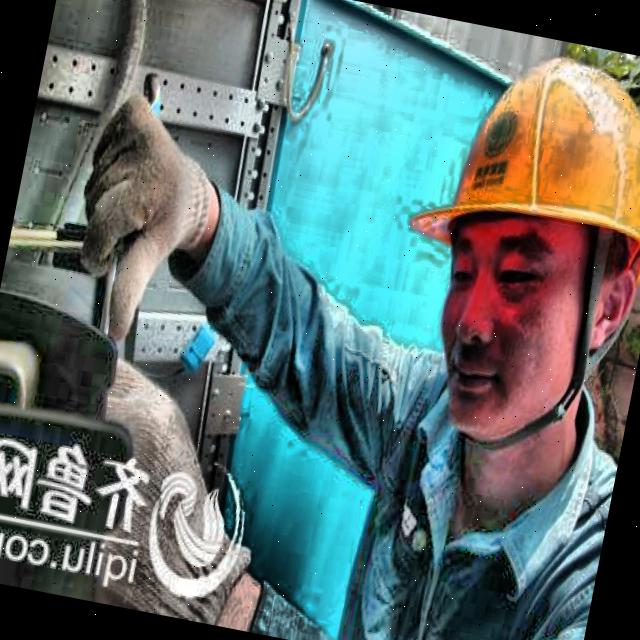helmet: (354, 17, 640, 492)
